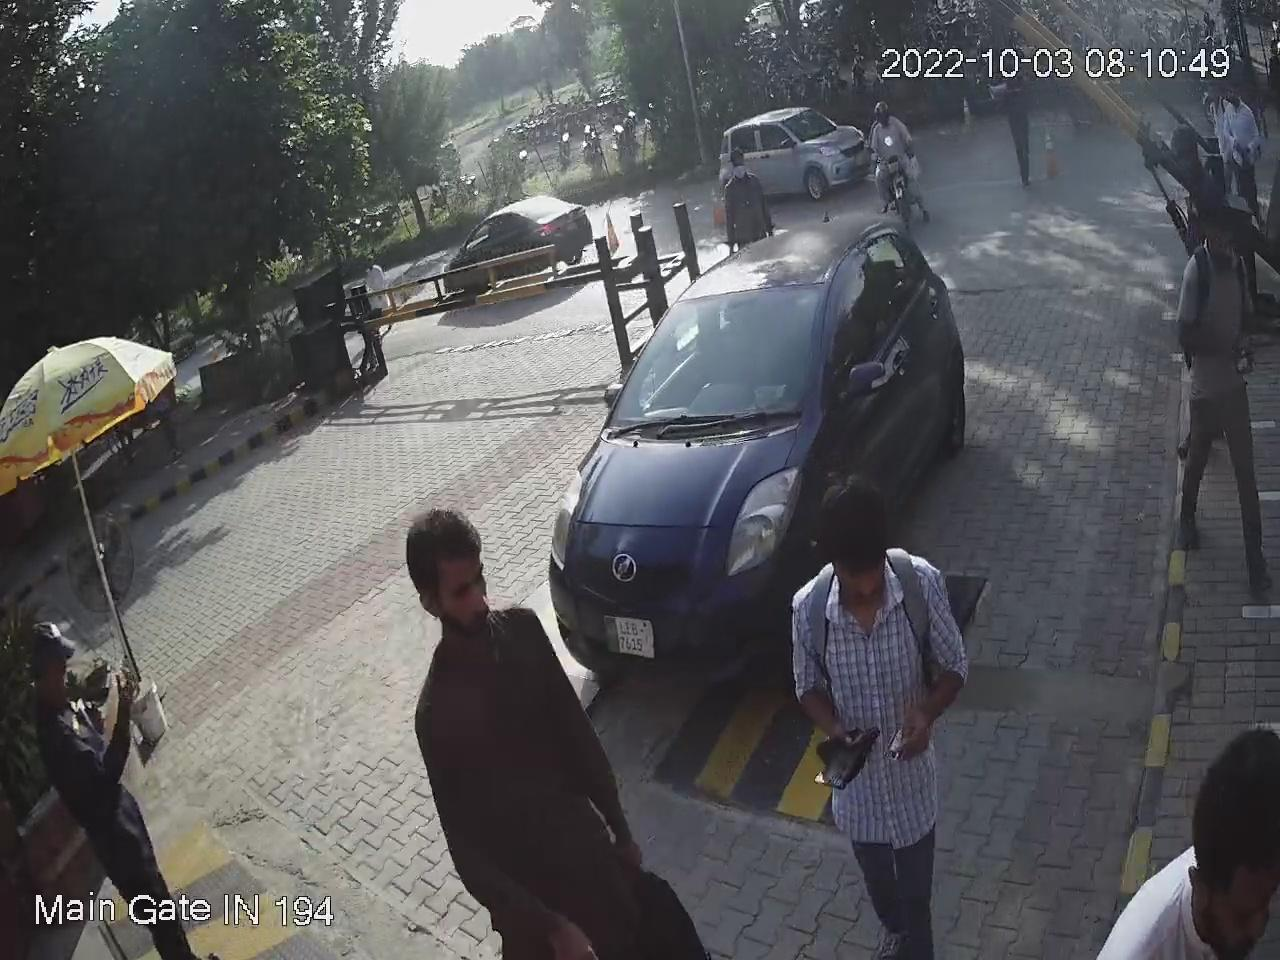windshield: (603, 265, 825, 430)
